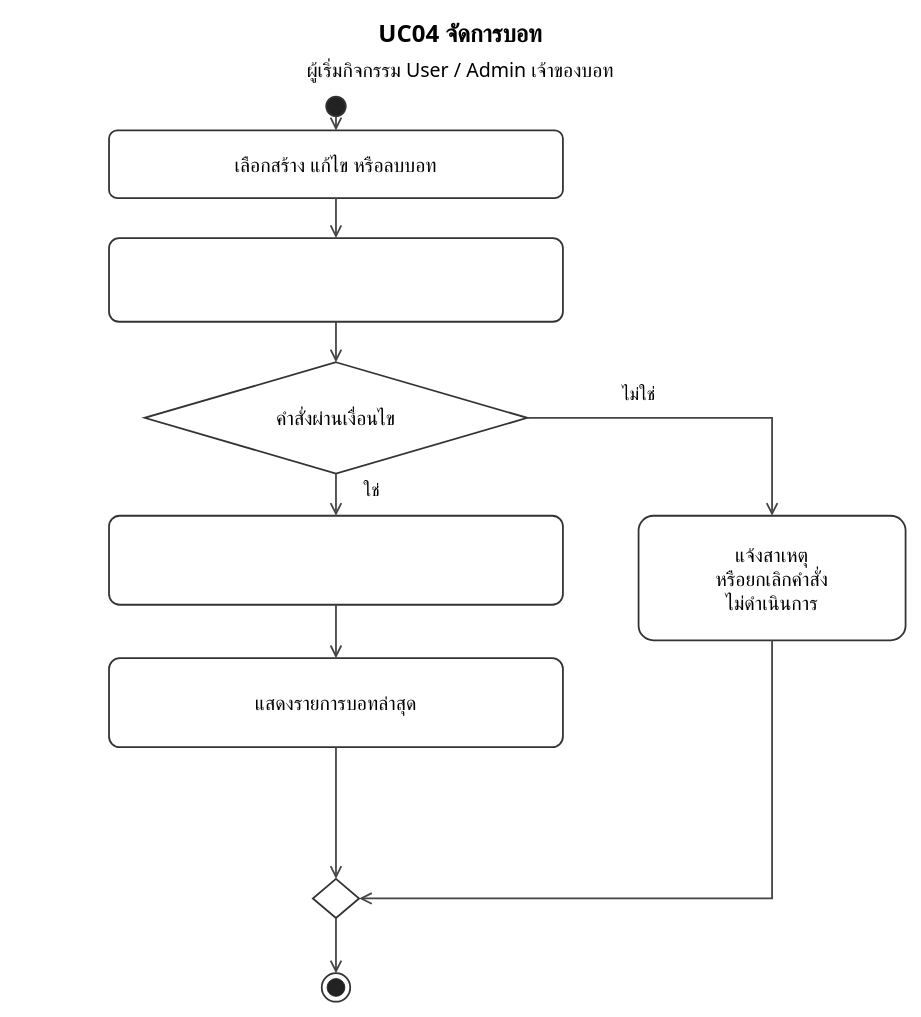
The diagram is 921 pixels wide and 1017 high, and some of its shapes have lost their labels. Here are the shapes that lost their labels. From the top down, the centre of each, then its label:
At [335,279]: "ตรวจข้อมูลและเจ้าของบอท ตรวจโควต้าเมื่อสร้าง และยืนยันเมื่อลบ".
At [335,559]: "สร้าง แก้ไข หรือลบบอท พร้อมข้อมูลที่เกี่ยวข้องตามคำสั่ง".
